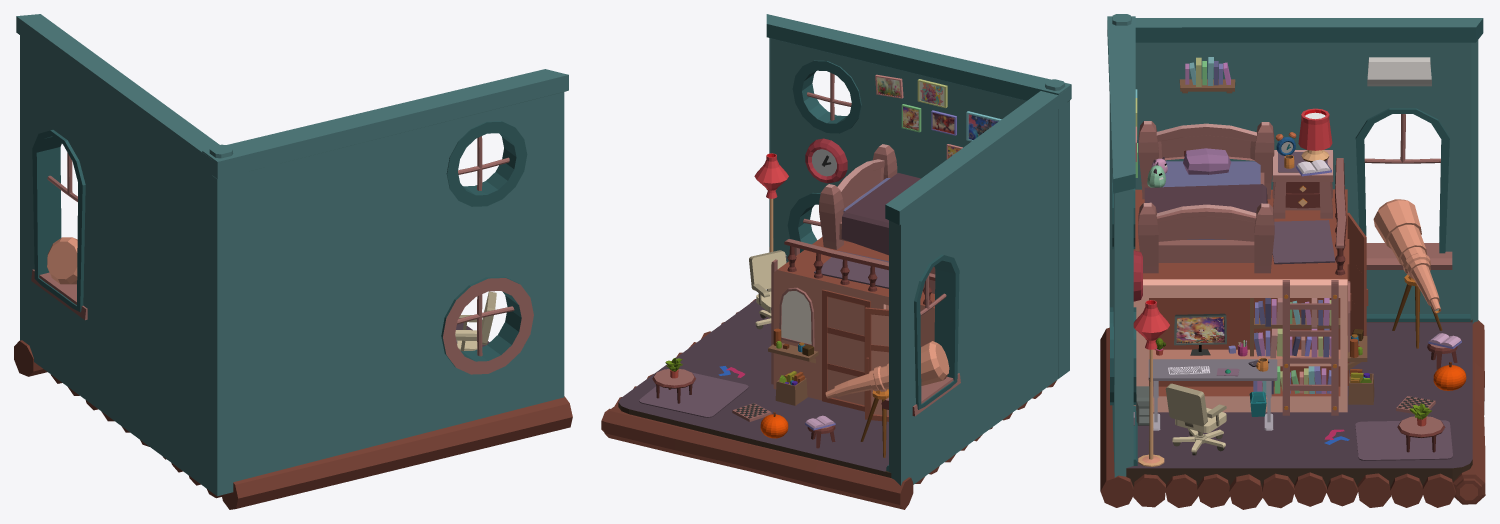
Rendered from bedroom.fbx.
3 views of the same model, side by side, from view 1: azimuth 30°, elevation 25°; view 2: azimuth 150°, elevation 25°; view 3: azimuth 270°, elevation 25° (orthographic). The views are drawn at different scales.
Visible parts, largest first — view 1: wall-left, wall, floor.001, window.001, window, telescope, window.002, chair; view 2: wall, wall-left, floor, floor.001, bed, second-floor, cabinet-door-left, window, telescope, Carpet.001, pictures, cabinet-door-right (+11 smaller); view 3: wall, floor, second-floor, bed, floor.001, wall-left, books, telescope, ladder, Carpet.001, desk, bedside-table (+19 smaller).
Boxes of the visible parts, <box> form: wall-left: <box>202,69,568,496</box>; wall: <box>16,14,219,486</box>; floor.001: <box>14,340,572,509</box>; window.001: <box>441,276,533,374</box>; window: <box>446,121,527,206</box>; telescope: <box>47,237,77,284</box>; window.002: <box>31,152,87,320</box>; chair: <box>455,291,496,351</box>; wall: <box>885,89,1067,485</box>; wall-left: <box>766,14,1071,378</box>; floor: <box>618,299,891,477</box>; floor.001: <box>601,299,1056,509</box>; bed: <box>819,144,920,255</box>; second-floor: <box>773,237,934,400</box>; cabinet-door-left: <box>822,289,870,411</box>; window: <box>792,60,861,133</box>; telescope: <box>825,341,949,457</box>; Carpet.001: <box>639,372,748,417</box>; pictures: <box>875,74,1001,159</box>; cabinet-door-right: <box>865,307,888,421</box>; wall: <box>1135,18,1483,323</box>; floor: <box>1126,319,1472,487</box>; second-floor: <box>1133,189,1347,412</box>; bed: <box>1138,121,1274,273</box>; floor.001: <box>1100,320,1485,509</box>; wall-left: <box>1107,14,1137,477</box>; books: <box>1253,298,1331,394</box>; telescope: <box>1373,199,1442,348</box>; ladder: <box>1282,280,1338,415</box>; Carpet.001: <box>1355,420,1452,460</box>; desk: <box>1148,359,1277,430</box>; bedside-table: <box>1272,150,1333,218</box>.
Bounding box in the file's own units: 3.44 × 3.24 × 3.36.
2 materials, 2 textured.
